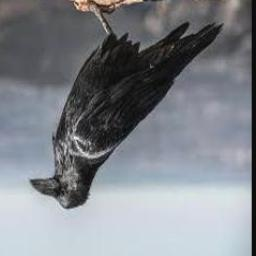Crow: (30, 0, 225, 210)
